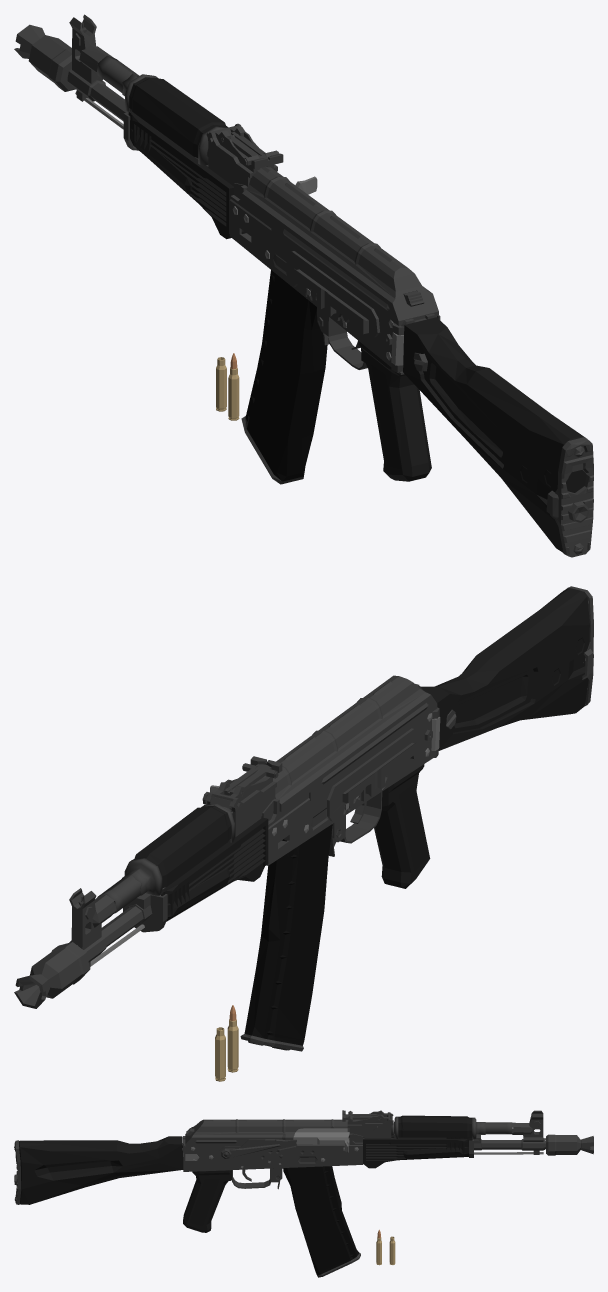
3 views of the same model, one above another, from view 1: azimuth 30°, elevation 25°; view 2: azimuth 150°, elevation 25°; view 3: azimuth 270°, elevation 25° (orthographic). The views are drawn at different scales.
Parts seen in each view (by area): view 1: folding_stock, receiver, magazine, dust_cover, grip, handguard_lower, handguard_upper, muzzle_boost, gas_tube, rear_sight; view 2: folding_stock, receiver, magazine, dust_cover, grip, handguard_lower, handguard_upper, muzzle_boost, gas_tube, lower_handguard_cover, rear_sight, cartridge; view 3: folding_stock, receiver, magazine, dust_cover, handguard_lower, grip, handguard_upper, safety_selector, bolt_carrier, muzzle_boost, gas_tube, rear_sight.
Boxes of the visible parts, bbox=[...] form: folding_stock: bbox=[391, 317, 593, 557]; receiver: bbox=[67, 14, 440, 374]; magazine: bbox=[241, 270, 327, 484]; dust_cover: bbox=[242, 166, 438, 325]; grip: bbox=[358, 341, 431, 481]; handguard_lower: bbox=[128, 111, 245, 239]; handguard_upper: bbox=[129, 77, 228, 158]; muzzle_boost: bbox=[14, 24, 75, 91]; gas_tube: bbox=[97, 55, 226, 165]; rear_sight: bbox=[221, 132, 283, 169]; folding_stock: bbox=[420, 586, 593, 750]; receiver: bbox=[69, 712, 432, 968]; magazine: bbox=[240, 824, 332, 1051]; dust_cover: bbox=[263, 675, 437, 811]; grip: bbox=[374, 764, 430, 888]; handguard_lower: bbox=[161, 817, 268, 921]; handguard_upper: bbox=[133, 805, 231, 887]; muzzle_boost: bbox=[14, 942, 89, 1008]; gas_tube: bbox=[98, 804, 234, 913]; lower_handguard_cover: bbox=[123, 893, 167, 932]; rear_sight: bbox=[224, 756, 282, 795]; cartridge: bbox=[227, 1005, 238, 1072]; folding_stock: bbox=[14, 1136, 183, 1204]; receiver: bbox=[183, 1110, 545, 1188]; magazine: bbox=[282, 1166, 360, 1277]; dust_cover: bbox=[185, 1119, 348, 1146]; handguard_lower: bbox=[363, 1135, 472, 1168]; grip: bbox=[183, 1170, 231, 1232]; handguard_upper: bbox=[398, 1115, 472, 1137]; safety_selector: bbox=[219, 1139, 296, 1160]; bolt_carrier: bbox=[293, 1123, 393, 1152]; muzzle_boost: bbox=[546, 1134, 593, 1155]; gas_tube: bbox=[391, 1116, 512, 1139]; rear_sight: bbox=[342, 1110, 383, 1122].
Bounding box in the file's own units: 7.46 × 27.24 × 88.02.
